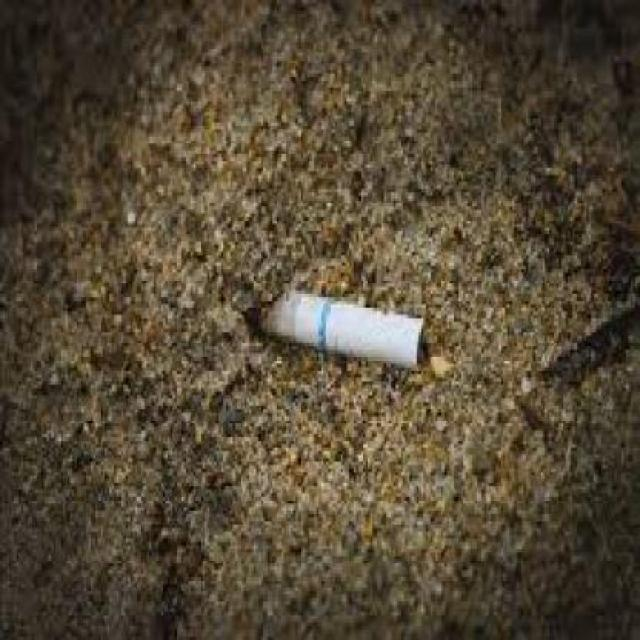cigarette: (247, 276, 458, 424)
